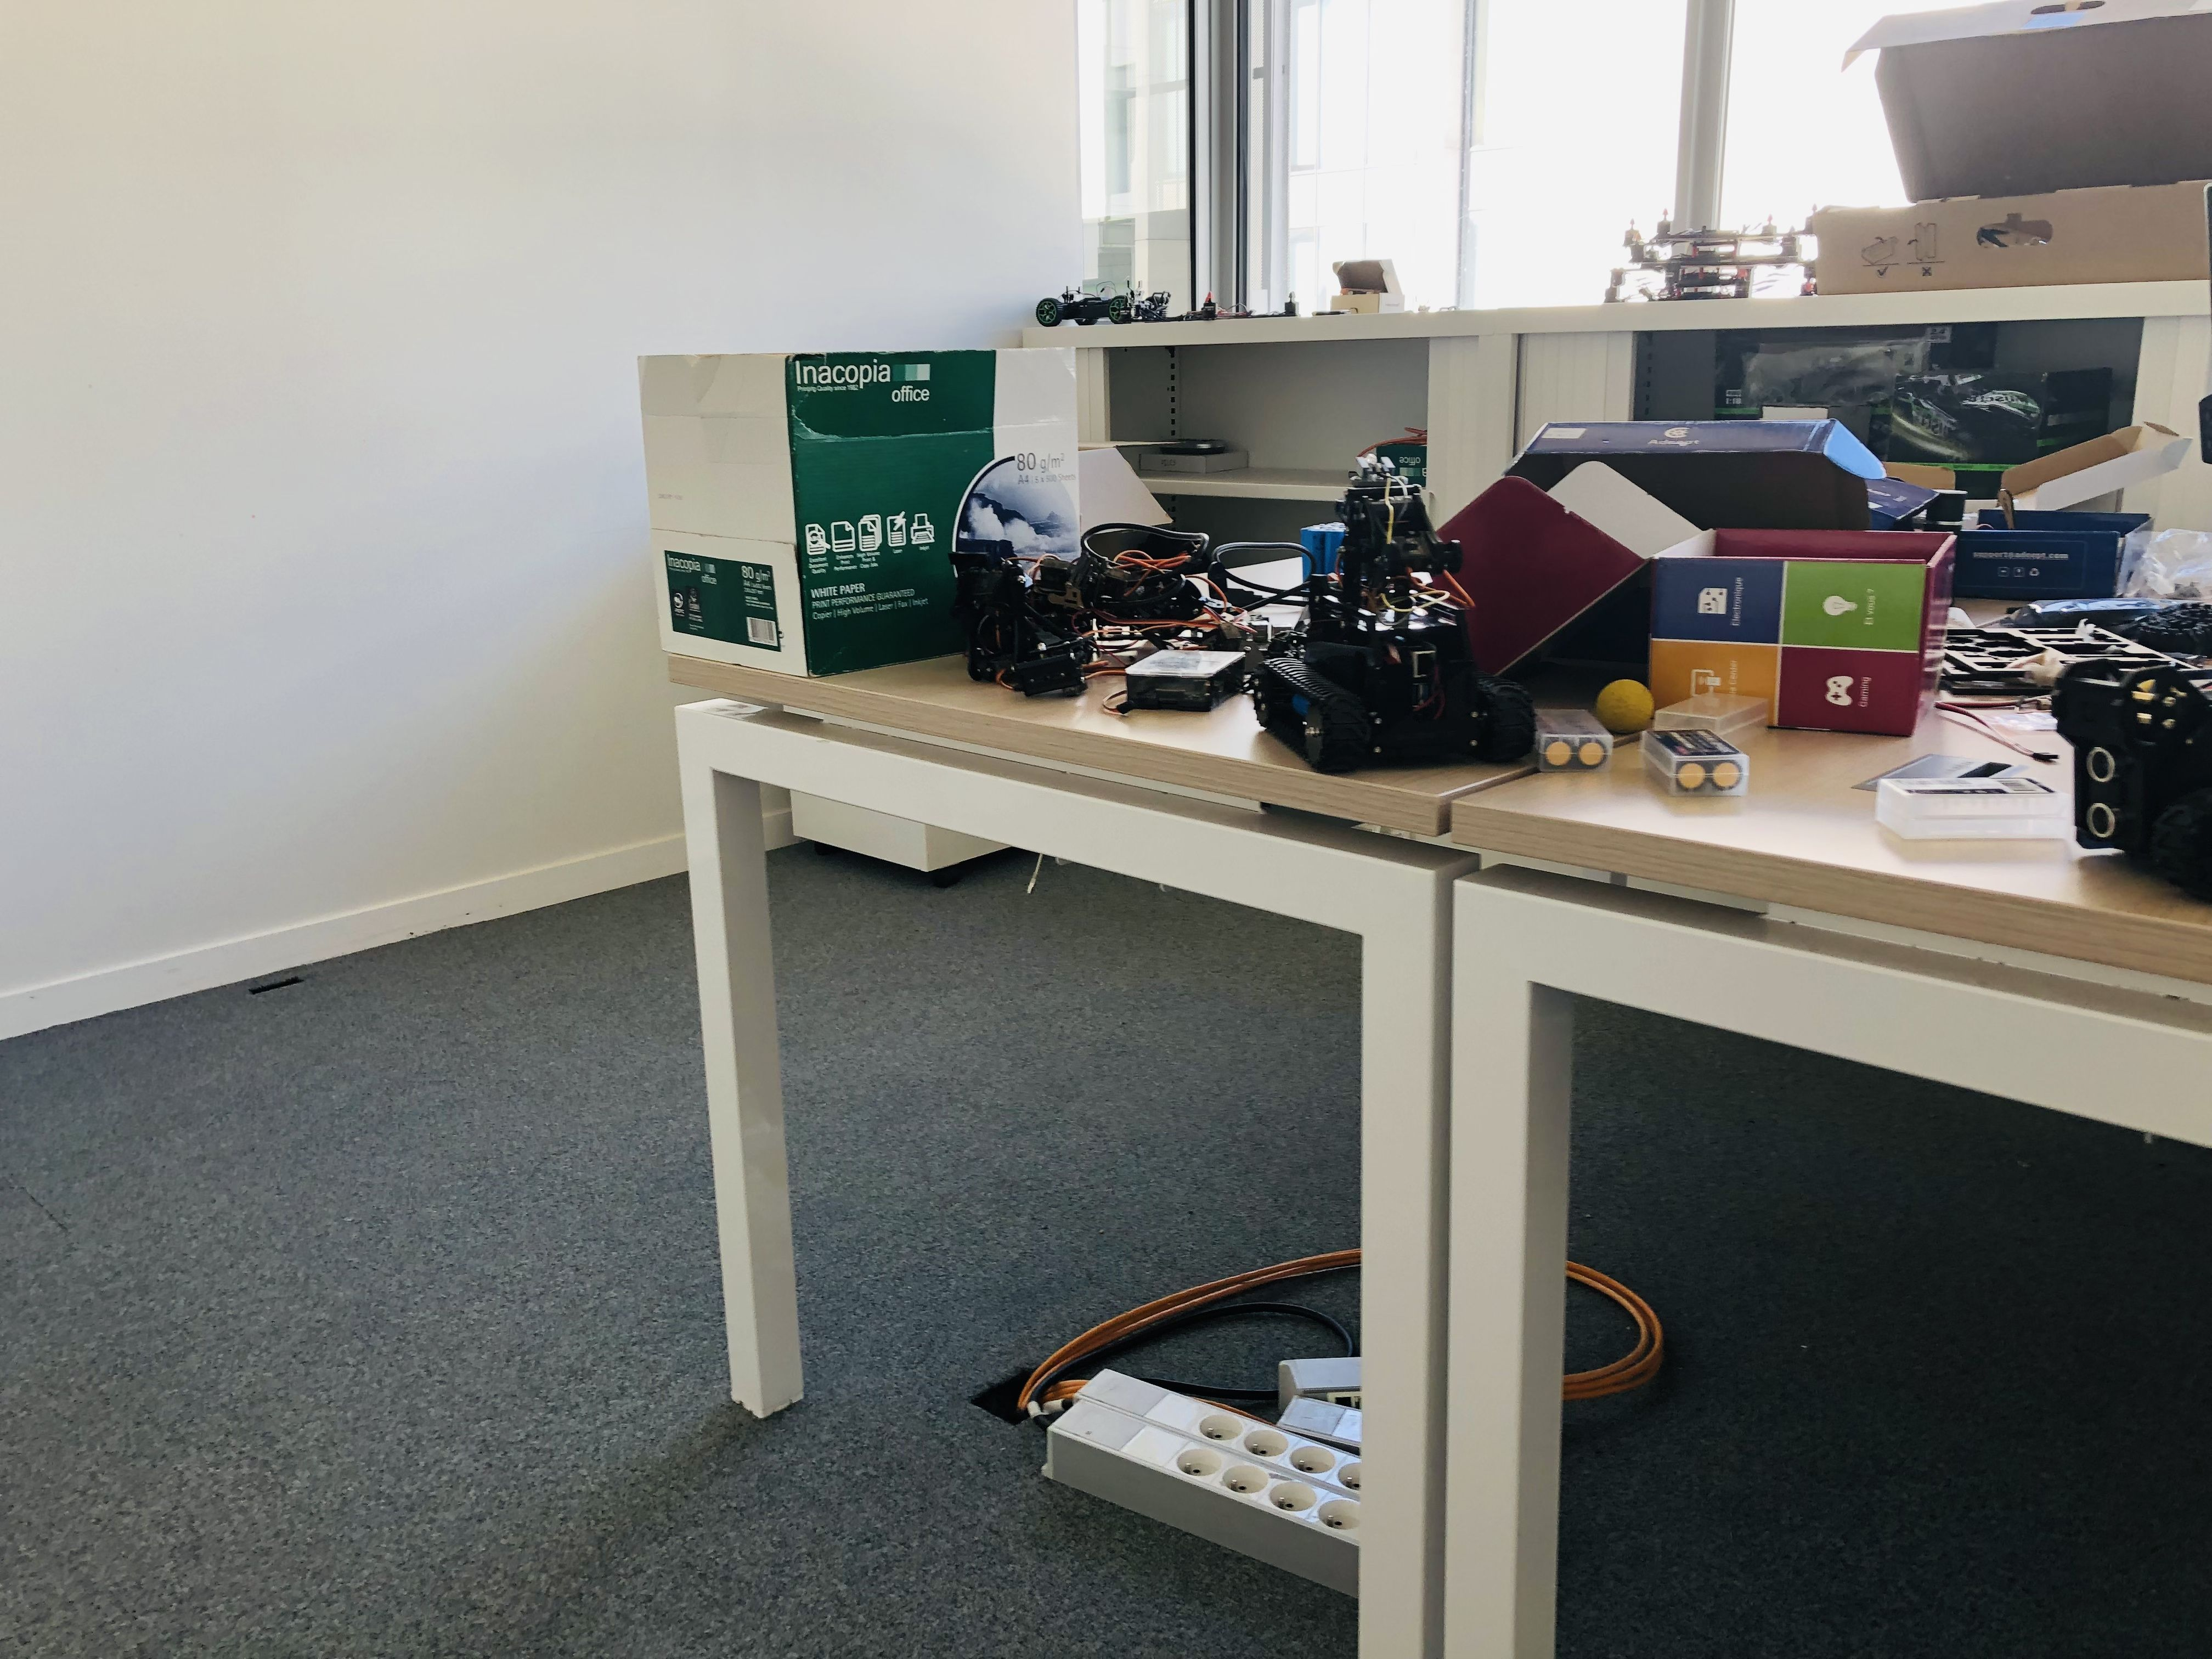rasptank: (1256, 457, 1531, 775)
